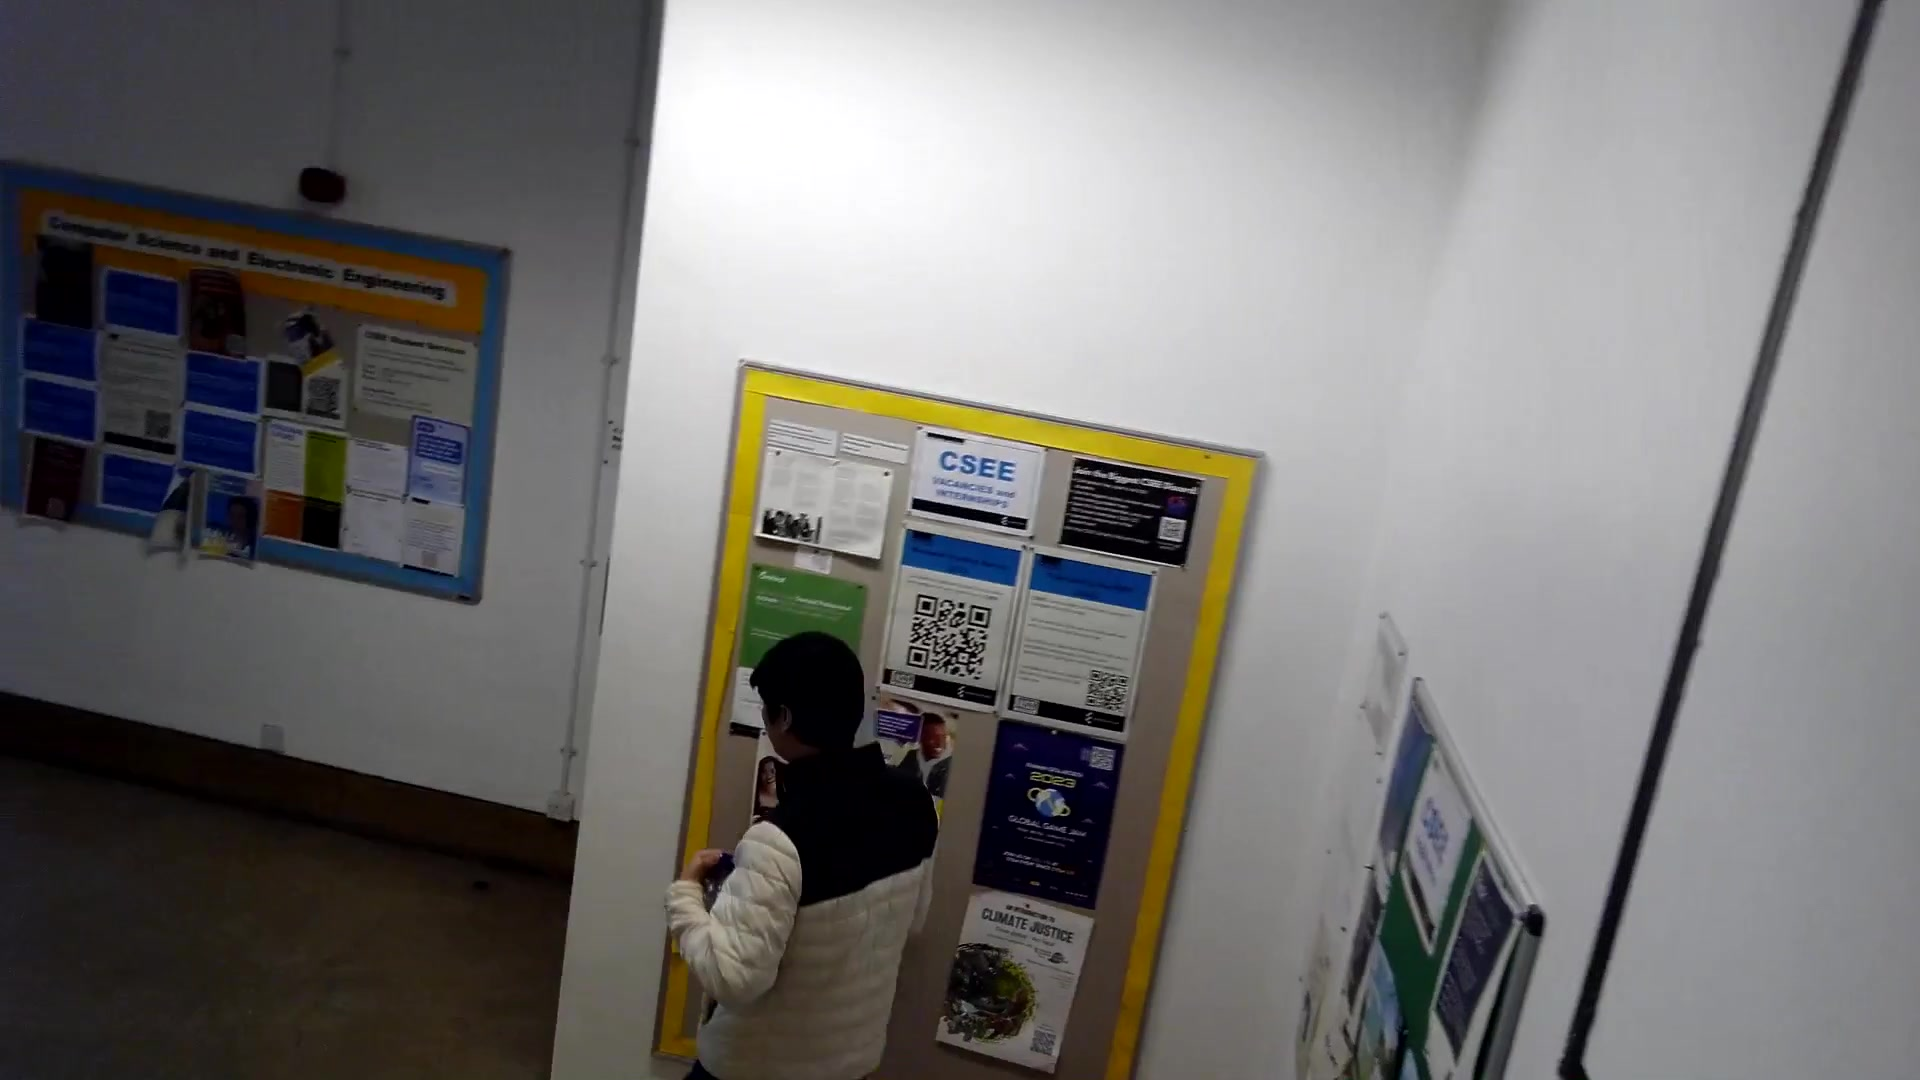Person: (720, 618, 936, 1080)
